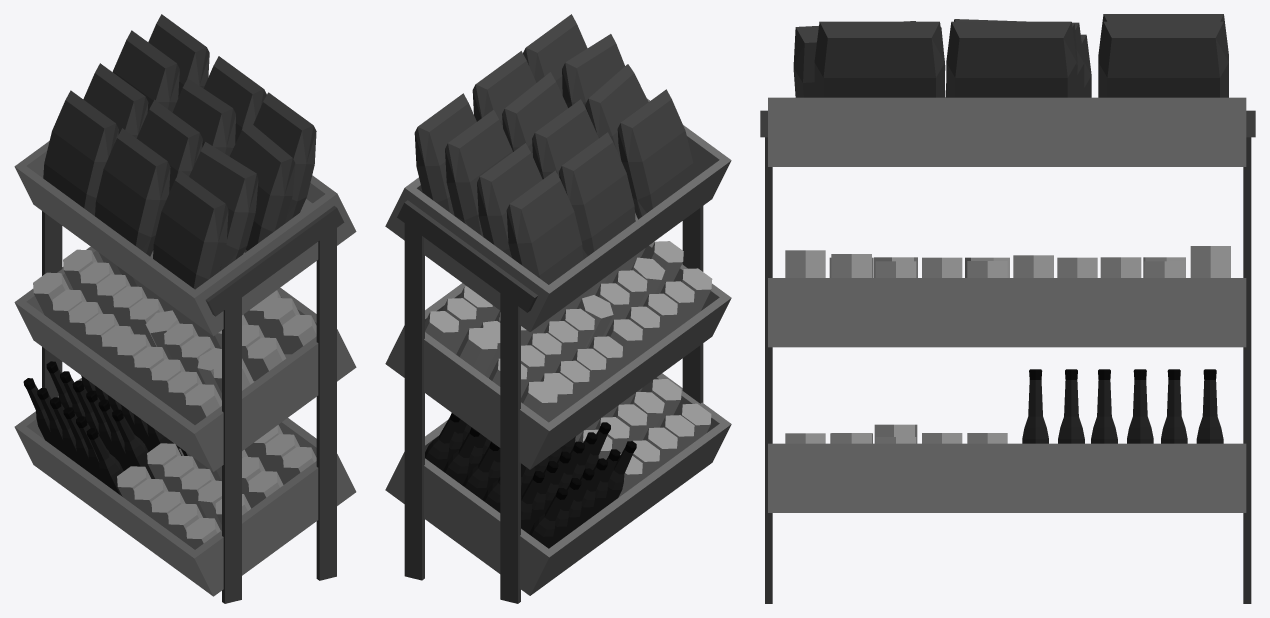
File: food_stack_C.FBX
The picture shows the model from 3 angles, left to right: view 1: azimuth 30°, elevation 25°; view 2: azimuth 150°, elevation 25°; view 3: azimuth 270°, elevation 25°; orthographic projection. The views are drawn at different scales.
Parts seen in each view (by area): view 1: food_stack_C; view 2: food_stack_C; view 3: food_stack_C.
Boxes of the visible parts, x1,y1,x2,y2 form: food_stack_C: (14,14,356,603); food_stack_C: (385,14,731,603); food_stack_C: (760,14,1255,603).
Bounding box in the file's own units: 42.56 × 105 × 81.29.
